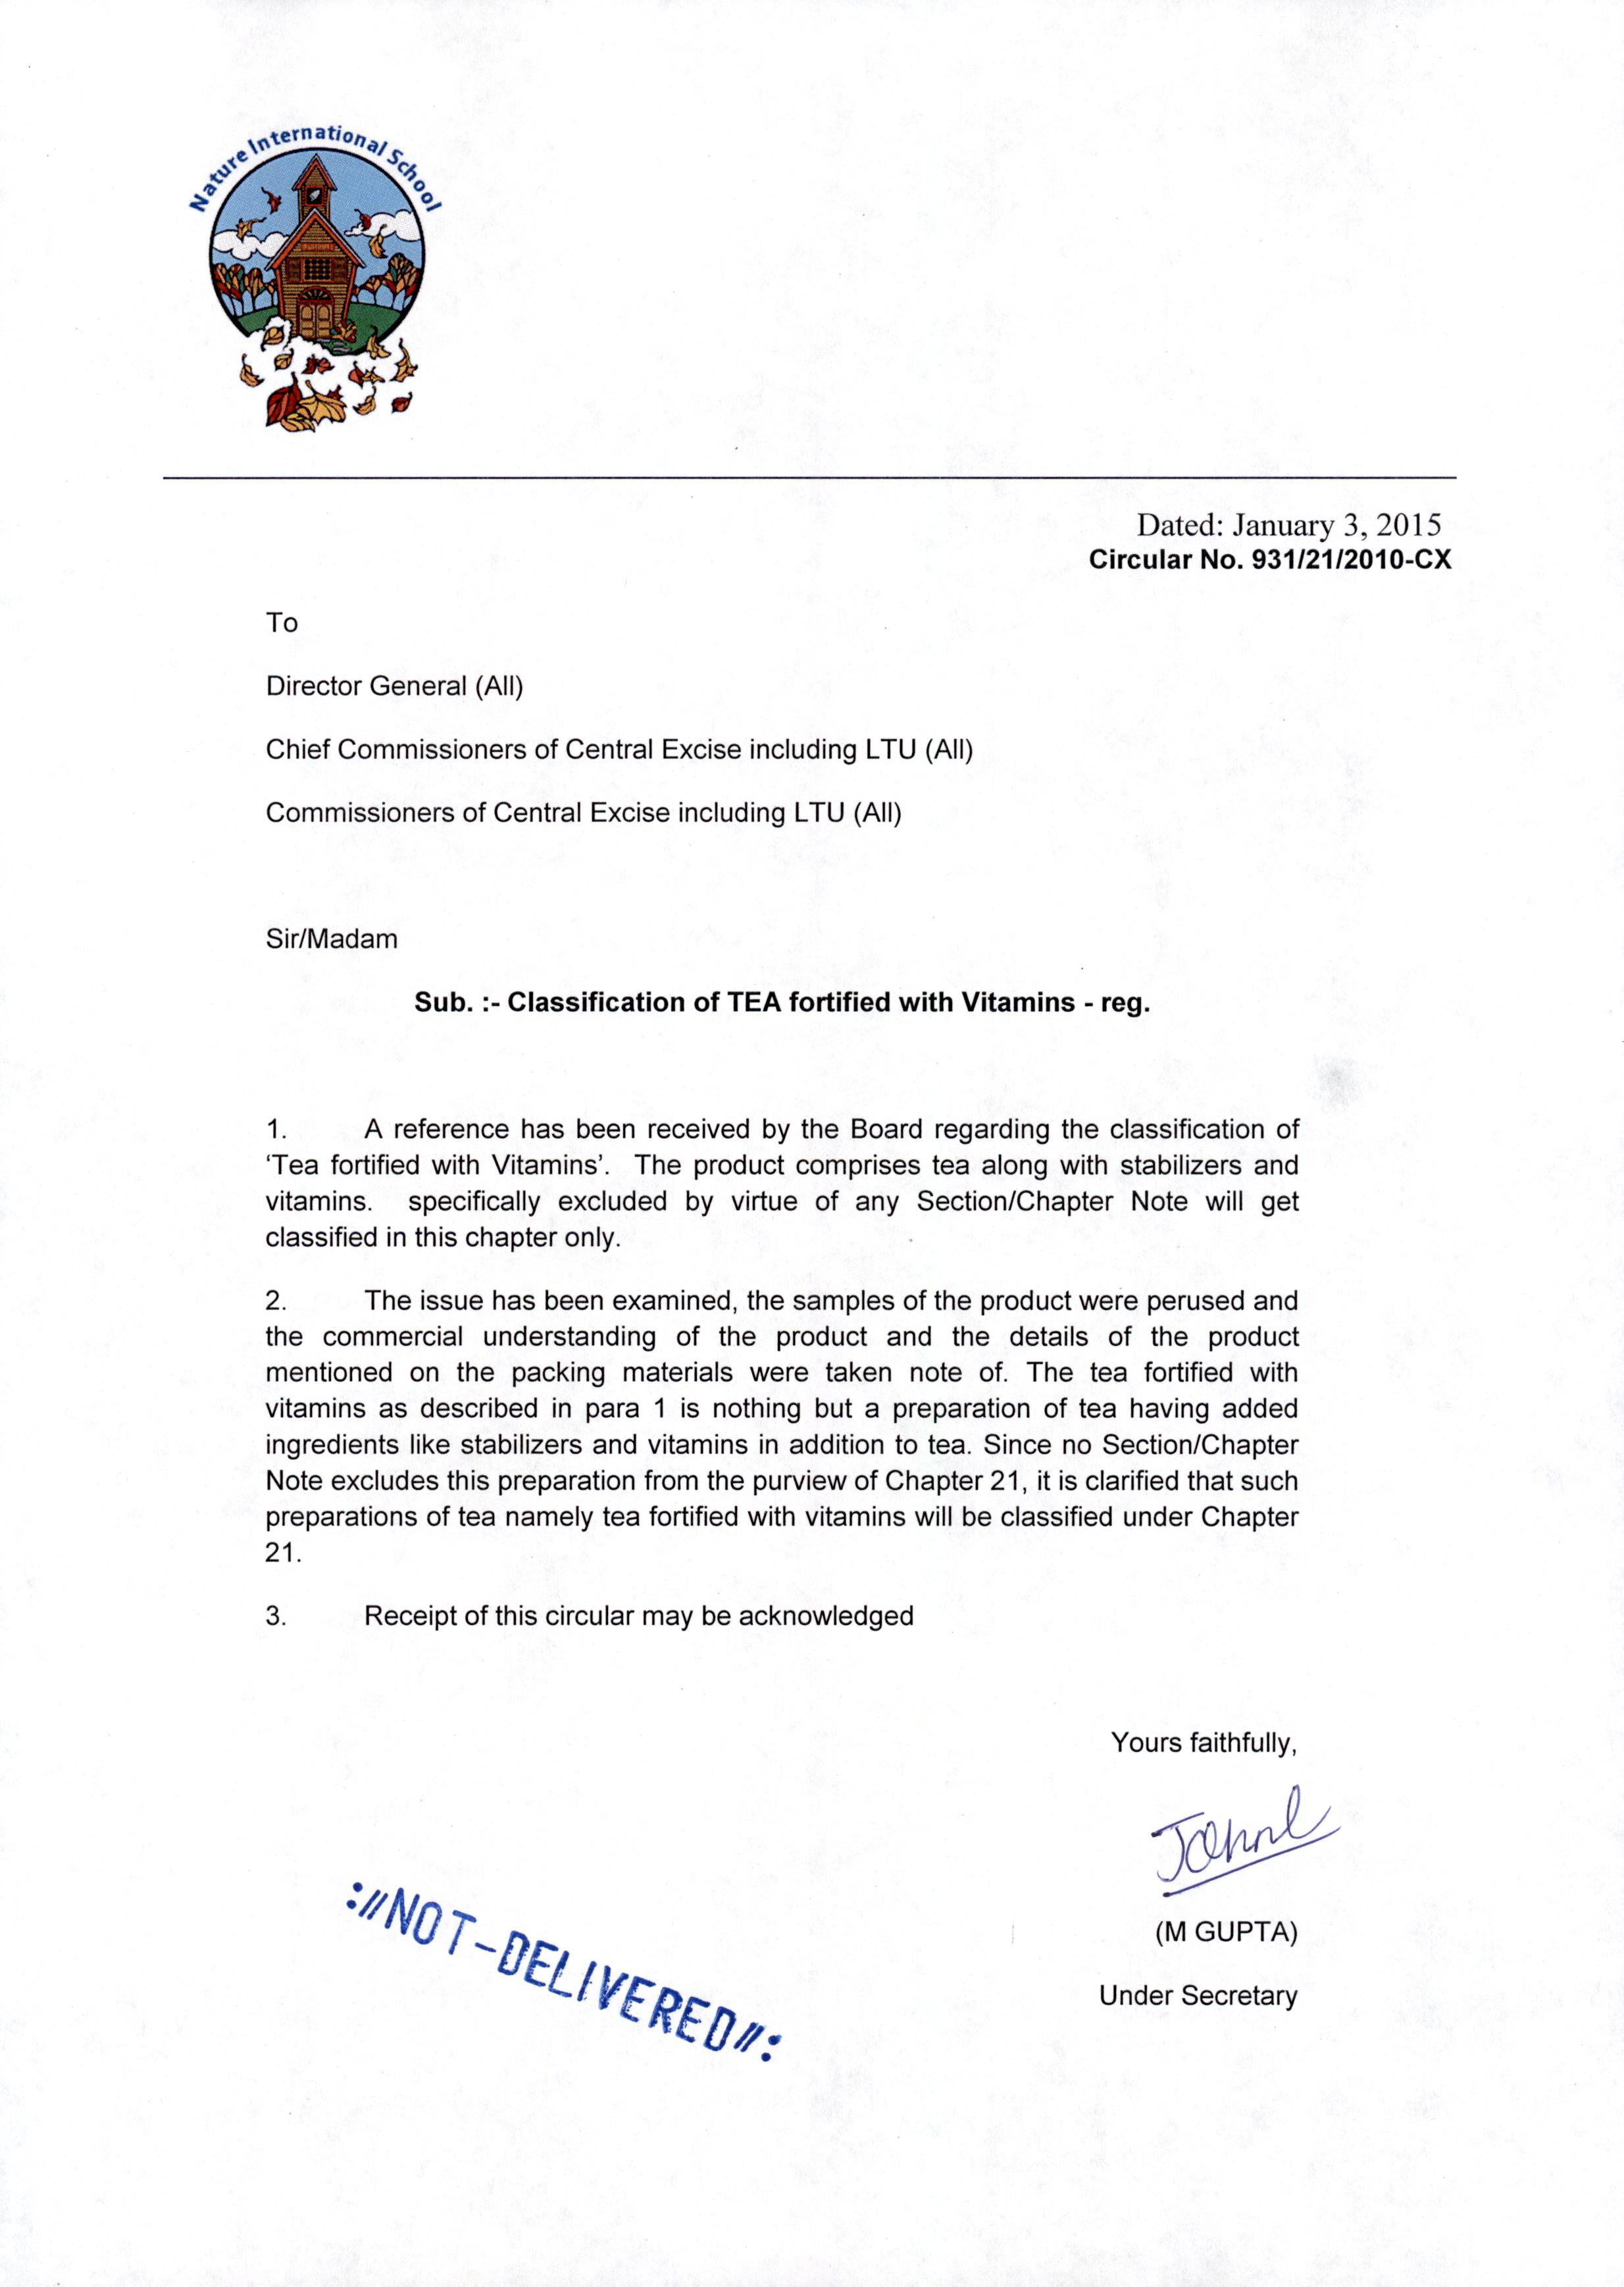Signature: (1142, 1779, 1343, 1904)
